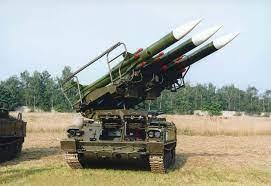rszo: (58, 16, 247, 180)
